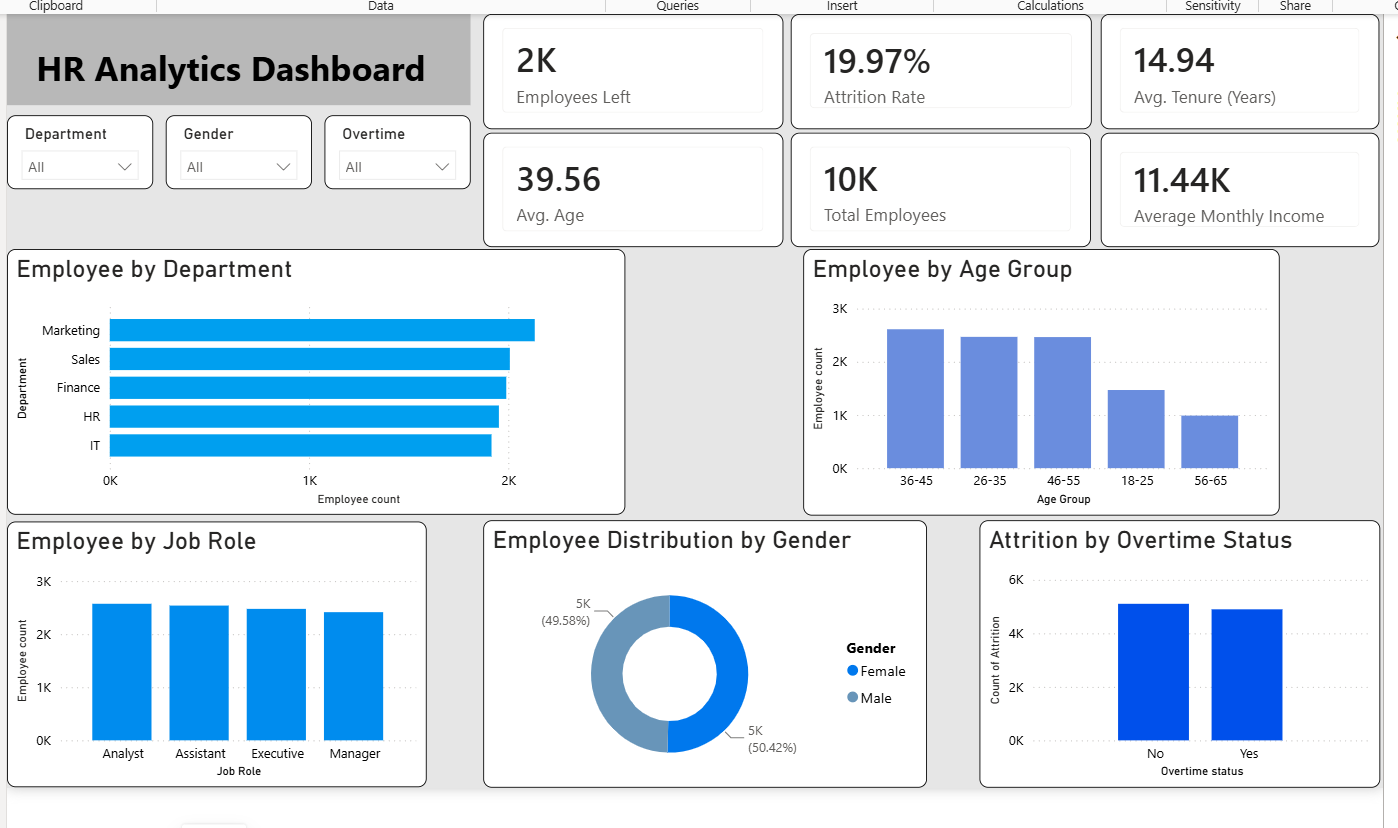

Layout of this report page (visuals, bound fields, positions):
{"tool":"powerbi","page":{"name":"Page 1","canvas":[1280,720],"ordinal":0},"visuals":[{"type":"cardVisual","title":"Employee Left","fields":{"Data":["HR_Analytics_Cleaned.Total Attrition"]},"box":[443,0,279.1,107],"z":0},{"type":"cardVisual","fields":{"Data":["HR_Analytics_Cleaned.Average Age"]},"box":[443,110.5,279.1,106],"z":1000},{"type":"cardVisual","fields":{"Data":["HR_Analytics_Cleaned.Average Monthly Income"]},"box":[1017.4,110.5,259.3,106],"z":2000},{"type":"cardVisual","fields":{"Data":["HR_Analytics_Cleaned.Total Employee"]},"box":[729,110.5,279,106],"z":3000},{"type":"cardVisual","fields":{"Data":["HR_Analytics_Cleaned.Attrition Rate"]},"box":[729,0,280.2,107],"z":4000},{"type":"cardVisual","title":"Avg. Tenure (Years)","fields":{"Data":["HR_Analytics_Cleaned.Average Years at Company"]},"box":[1017.4,0,259.3,107],"z":5000},{"type":"clusteredBarChart","title":"Employee  by Department","fields":{"Y":["CountNonNull(HR_Analytics_Cleaned (2).Employee_ID)"],"Category":["HR_Analytics_Cleaned (2).Department"]},"box":[0,218.6,575.2,247.4],"z":6000},{"type":"clusteredColumnChart","title":"Employee  by Job Role","fields":{"Y":["CountNonNull(HR_Analytics_Cleaned (2).Employee_ID)"],"Category":["HR_Analytics_Cleaned (2).Job_Role"]},"box":[0,472.1,390.2,247.4],"z":7000},{"type":"donutChart","title":"Employee Distribution by Gender","fields":{"Category":["HR_Analytics_Cleaned (2).Gender"],"Y":["HR_Analytics_Cleaned.Total Employee"]},"box":[443,470.9,413.1,248.6],"z":8000},{"type":"columnChart","title":"Employee by Age Group","fields":{"Category":["HR_Analytics_Cleaned (2).Age_Group"],"Y":["CountNonNull(HR_Analytics_Cleaned (2).Employee_ID)"]},"box":[740.7,218.6,443,247.7],"z":9000},{"type":"clusteredColumnChart","title":"Attrition by Overtime Status","fields":{"Category":["HR_Analytics_Cleaned (2).Overtime"],"Y":["CountNonNull(HR_Analytics_Cleaned (2).Attrition)"]},"box":[904.7,470.9,373,248.6],"z":10000},{"type":"textbox","box":[0,0,431.4,84.9],"z":11000},{"type":"slicer","fields":{"Values":["HR_Analytics_Cleaned (2).Department"]},"box":[0,94.2,136,68.6],"z":12000},{"type":"slicer","fields":{"Values":["HR_Analytics_Cleaned (2).Gender"]},"box":[148,94,136,68.6],"z":13000},{"type":"slicer","fields":{"Values":["HR_Analytics_Cleaned (2).Overtime"]},"box":[295,94.2,136,68.6],"z":14000}]}

Visuals, with their boxes in screenshot pixels (x1, y1, x2, y2):
"Employee Left" cardVisual: {"x1": 477, "y1": 7, "x2": 778, "y2": 123}
cardVisual - HR_Analytics_Cleaned.Average Age: {"x1": 477, "y1": 126, "x2": 778, "y2": 240}
cardVisual - HR_Analytics_Cleaned.Average Monthly Income: {"x1": 1096, "y1": 126, "x2": 1375, "y2": 240}
cardVisual - HR_Analytics_Cleaned.Total Employee: {"x1": 785, "y1": 126, "x2": 1086, "y2": 240}
cardVisual - HR_Analytics_Cleaned.Attrition Rate: {"x1": 785, "y1": 7, "x2": 1087, "y2": 123}
"Avg. Tenure (Years)" cardVisual: {"x1": 1096, "y1": 7, "x2": 1375, "y2": 123}
"Employee  by Department" clusteredBarChart: {"x1": 0, "y1": 243, "x2": 620, "y2": 509}
"Employee  by Job Role" clusteredColumnChart: {"x1": 0, "y1": 516, "x2": 420, "y2": 782}
"Employee Distribution by Gender" donutChart: {"x1": 477, "y1": 514, "x2": 922, "y2": 782}
"Employee by Age Group" columnChart: {"x1": 798, "y1": 243, "x2": 1275, "y2": 510}
"Attrition by Overtime Status" clusteredColumnChart: {"x1": 974, "y1": 514, "x2": 1376, "y2": 782}
textbox: {"x1": 0, "y1": 7, "x2": 465, "y2": 99}
slicer - HR_Analytics_Cleaned (2).Department: {"x1": 0, "y1": 109, "x2": 146, "y2": 183}
slicer - HR_Analytics_Cleaned (2).Gender: {"x1": 159, "y1": 109, "x2": 306, "y2": 182}
slicer - HR_Analytics_Cleaned (2).Overtime: {"x1": 318, "y1": 109, "x2": 464, "y2": 183}
